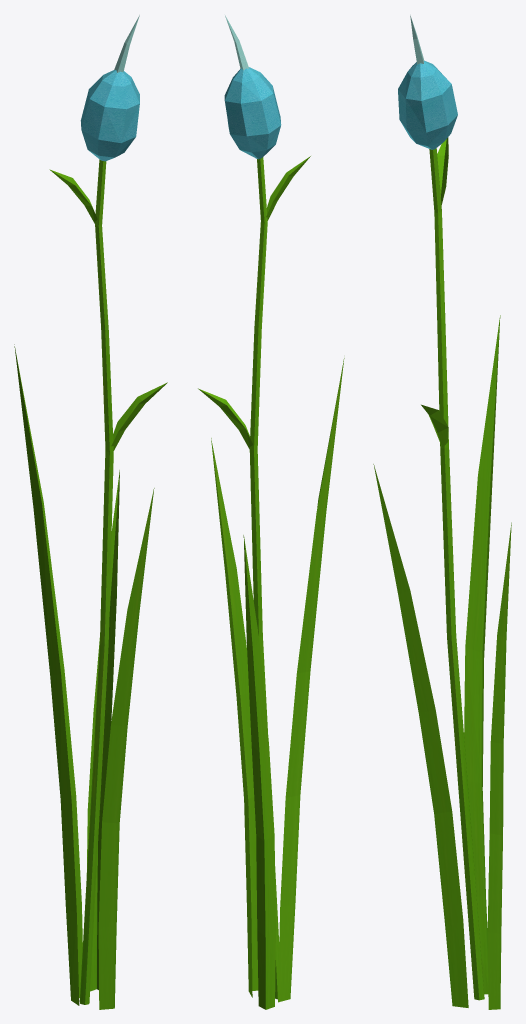
Rendered from PuffReed1_Blue.fbx.
3 renders of one model, left to right at view 1: azimuth 30°, elevation 25°; view 2: azimuth 210°, elevation 25°; view 3: azimuth 270°, elevation 25°, orthographic. The views are drawn at different scales.
Parts seen in each view (by area): view 1: Mesh; view 2: Mesh; view 3: Mesh.
Boxes of the visible parts, <box> form: Mesh: <box>14,15,167,1009</box>; Mesh: <box>198,15,344,1009</box>; Mesh: <box>373,15,511,1009</box>.
Bounding box in the file's own units: 42.36 × 359 × 45.29.
